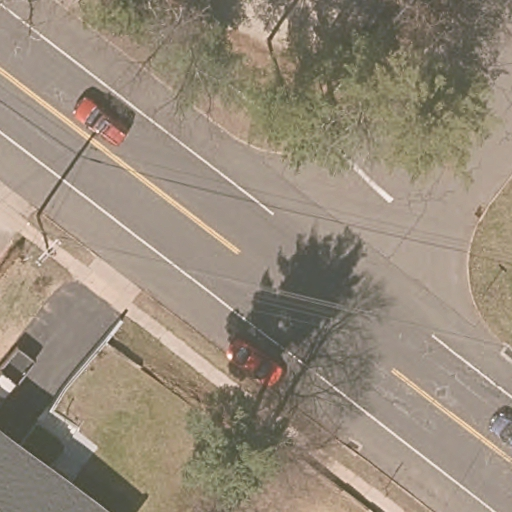DT: (34, 212, 61, 267)
